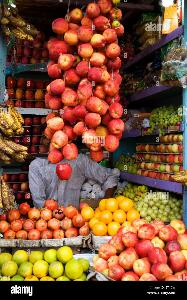apple: (40, 0, 138, 180), (90, 215, 187, 281), (1, 245, 84, 285), (134, 142, 187, 183), (6, 117, 52, 155), (2, 35, 53, 65), (4, 77, 54, 107), (141, 195, 185, 222), (0, 173, 30, 203)
grape: (138, 103, 187, 136)
pomegranate: (0, 204, 84, 240)
